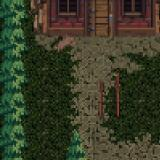Interaction: (94, 83, 128, 120)
Obstacle: (27, 0, 160, 89), (0, 0, 27, 160)
